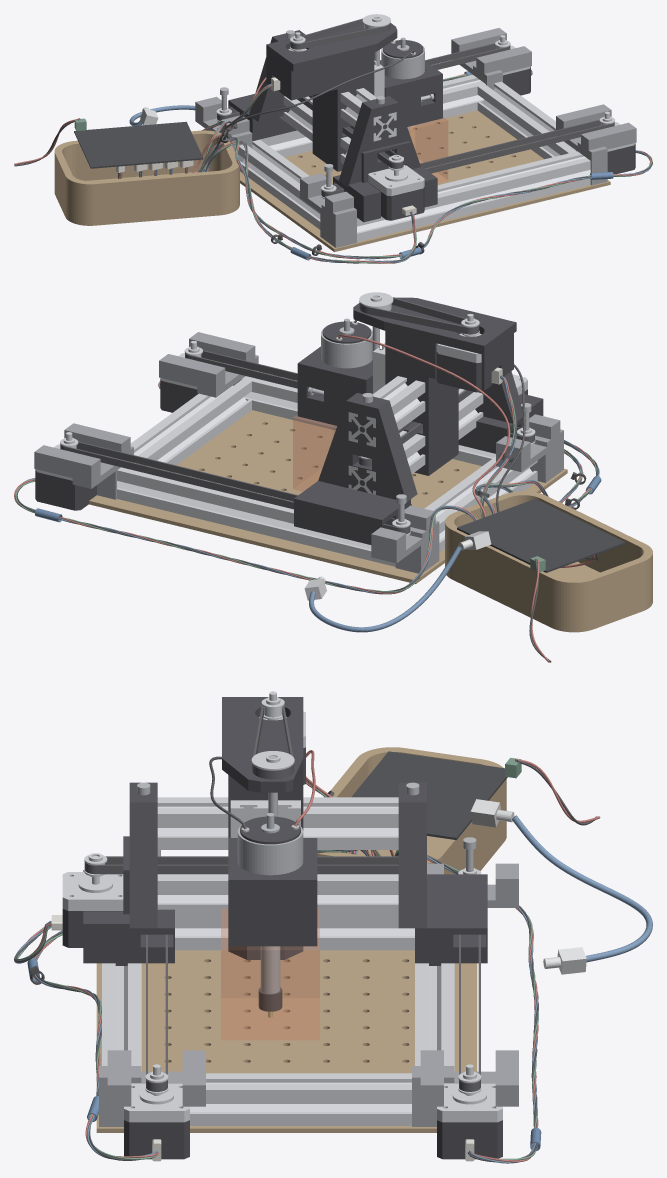
The model's file is cnc_v1.glb.
3 renders of one model, top to bottom at view 1: azimuth 30°, elevation 25°; view 2: azimuth 150°, elevation 25°; view 3: azimuth 270°, elevation 25°, orthographic. The views are drawn at different scales.
Parts seen in each view (by area): view 1: tray, effector, base_board, rail_x1, slider_x_f, controller, cross_y2, cross_y1, endblock_m_f, belt_x_f, endblock_i_f, endblock_m_r (+26 smaller); view 2: base_board, tray, slider_x_r, effector, rail_x2, controller, cross_y2, belt_x_r, endblock_m_r, endblock_m_f, endblock_i_r, slider_x_f (+23 smaller); view 3: base_board, cross_y2, slider_x_r, work_cube, slider_x_f, bar_upper, effector, spindle_holder_cap, controller, bar_lower, cross_y1, tray (+23 smaller).
Boxes of the visible parts, x1,y1,x2,y2 form: tray: (54,130,239,225); effector: (266,23,397,171); base_board: (240,110,610,251); rail_x1: (357,151,590,241); slider_x_f: (333,96,437,222); controller: (74,121,203,168); cross_y2: (477,81,576,159); cross_y1: (238,139,320,229); endblock_m_f: (556,104,636,185); belt_x_f: (321,119,614,197); endblock_i_f: (300,173,356,247); endblock_m_r: (451,28,531,89); base_board: (89,410,567,583); tray: (445,491,652,632); slider_x_r: (294,393,417,544); effector: (353,297,516,475); rail_x2: (117,462,395,566); controller: (457,498,625,572); cross_y2: (130,379,251,465); belt_x_r: (60,441,410,534); endblock_m_r: (34,423,133,499); endblock_m_f: (159,332,258,397); endblock_i_r: (371,505,439,573); slider_x_f: (458,371,543,453); base_board: (96,950,477,1132); cross_y2: (190,1073,411,1125); slider_x_r: (398,782,487,965); work_cube: (221,909,319,1039); slider_x_f: (83,782,174,965); bar_upper: (157,797,398,849); effector: (222,697,303,959); spindle_holder_cap: (228,861,317,946); controller: (351,751,507,839); bar_lower: (157,874,398,916); cross_y1: (175,917,414,950); tray: (317,747,506,874).
Bounding box in the file's own units: 0.5481 × 0.1835 × 0.4096.
